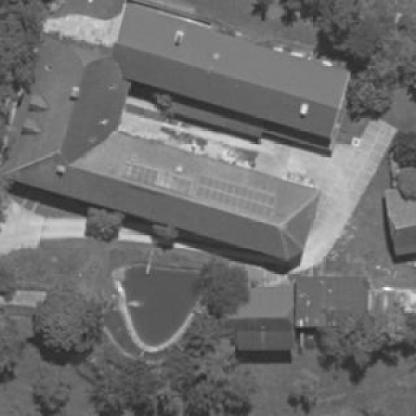solar-pv-panel: (197, 176, 275, 215), (123, 162, 191, 196)
